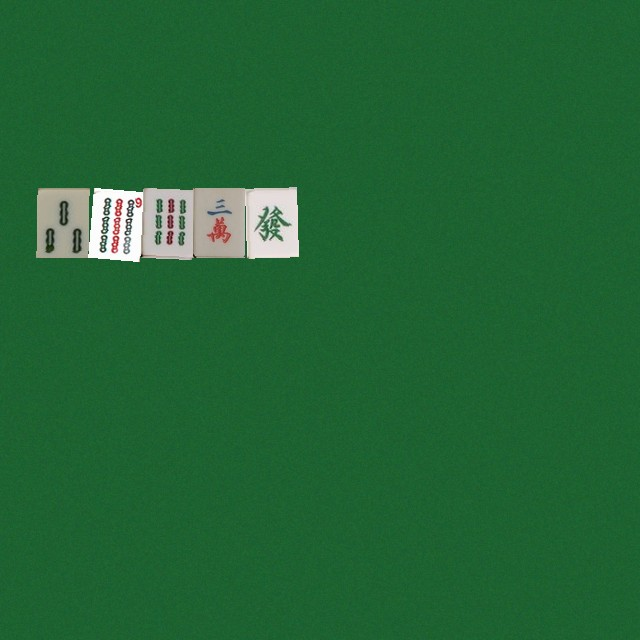tile: (36, 187, 88, 257), (88, 187, 140, 257), (140, 187, 192, 257), (192, 187, 244, 257), (244, 187, 296, 257)
